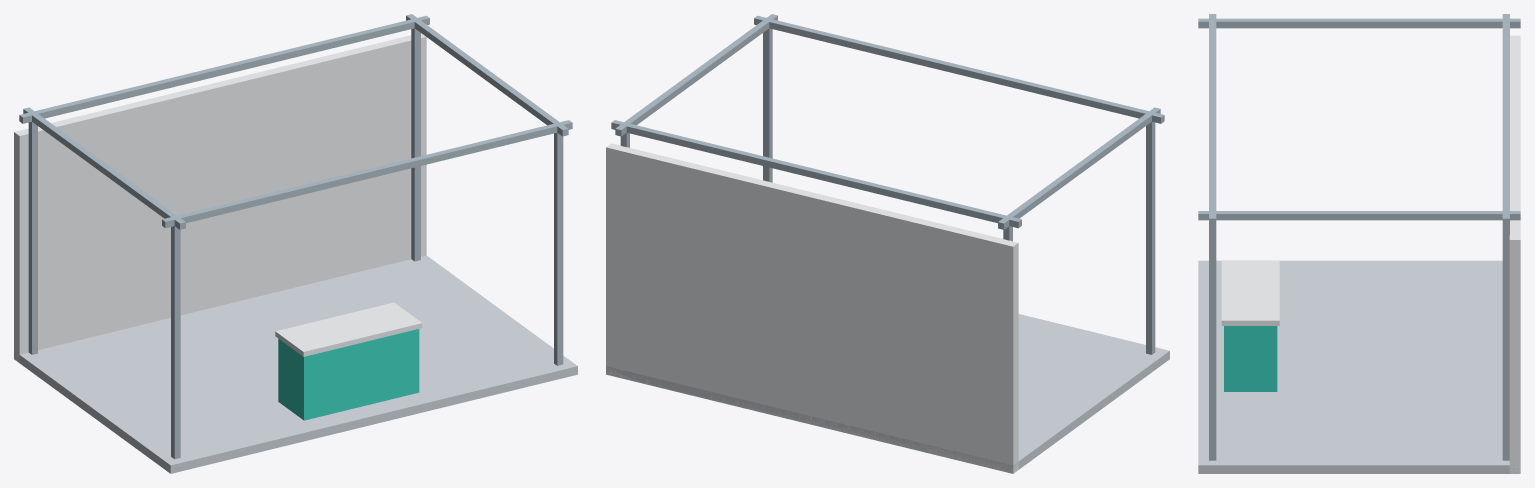
3 renders of one model, left to right at view 1: azimuth 30°, elevation 25°; view 2: azimuth 150°, elevation 25°; view 3: azimuth 270°, elevation 25°, orthographic. The views are drawn at different scales.
Visible parts, largest first — view 1: Exhibition Booth Concept; view 2: Exhibition Booth Concept; view 3: Exhibition Booth Concept.
Boxes of the visible parts, x1,y1,x2,y2 form: Exhibition Booth Concept: (14, 14, 577, 473); Exhibition Booth Concept: (606, 14, 1169, 473); Exhibition Booth Concept: (1198, 14, 1520, 473).
Size of the model in its own units: 6 by 3.49 by 4.
